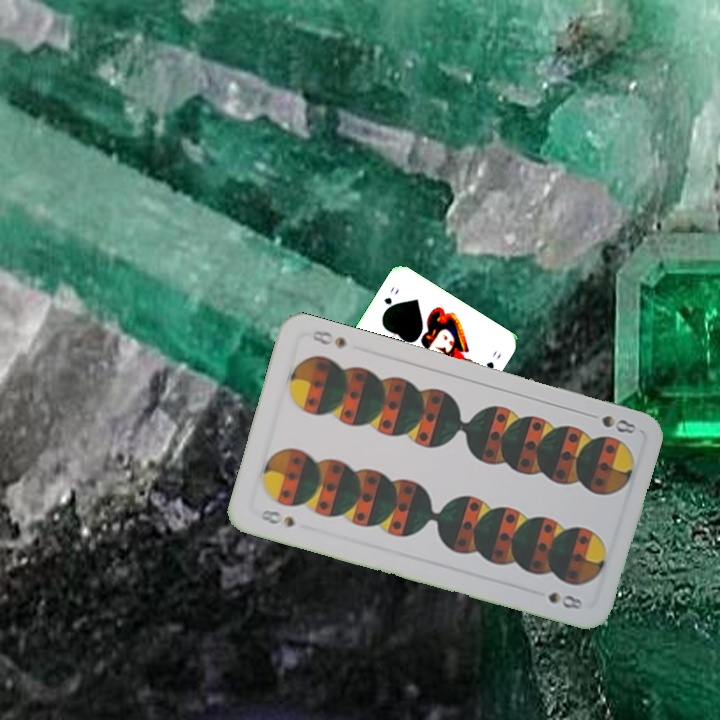GO: (379, 283, 402, 317)
S8: (597, 411, 639, 437), (256, 505, 297, 530)
